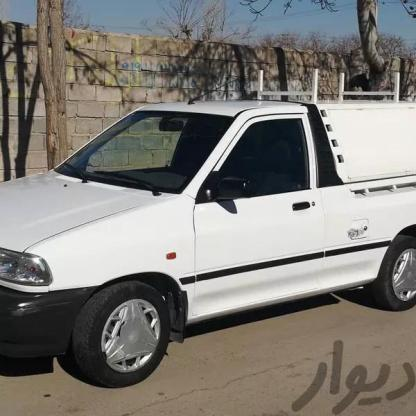Car: (0, 88, 416, 396)
